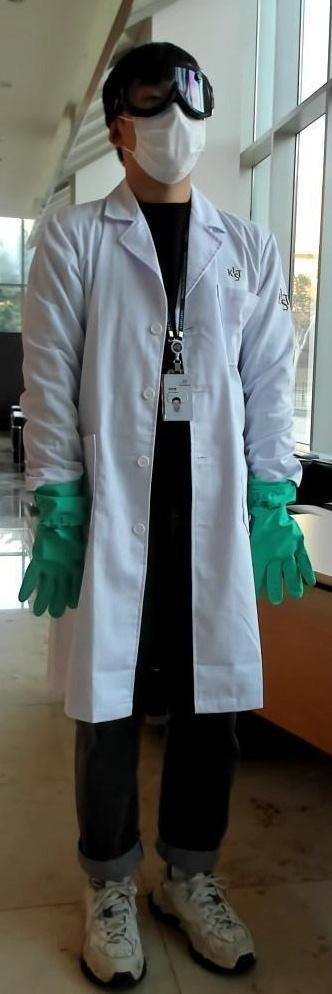lab_coat: (80, 232, 258, 708)
